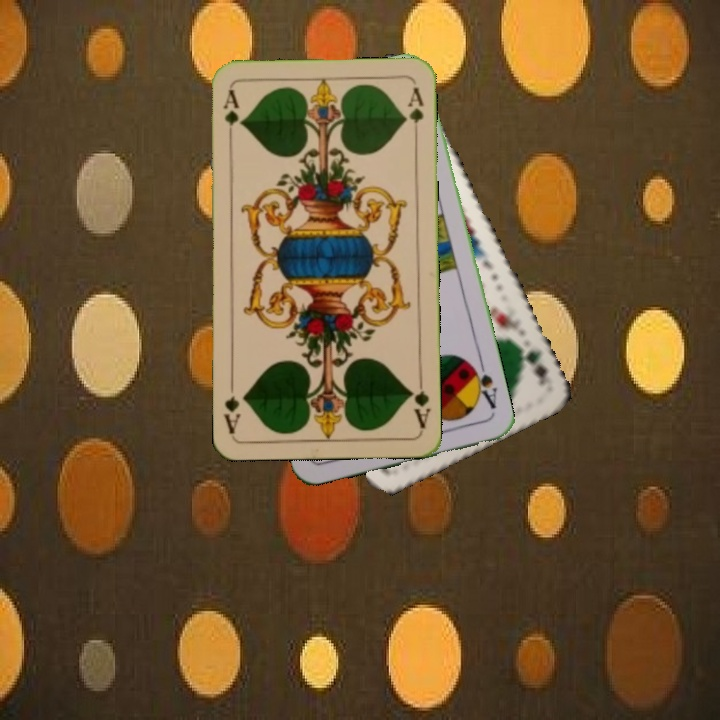GA: (405, 372, 432, 431), (219, 85, 242, 144)
GK: (513, 338, 552, 389)
SA: (466, 358, 500, 412)
